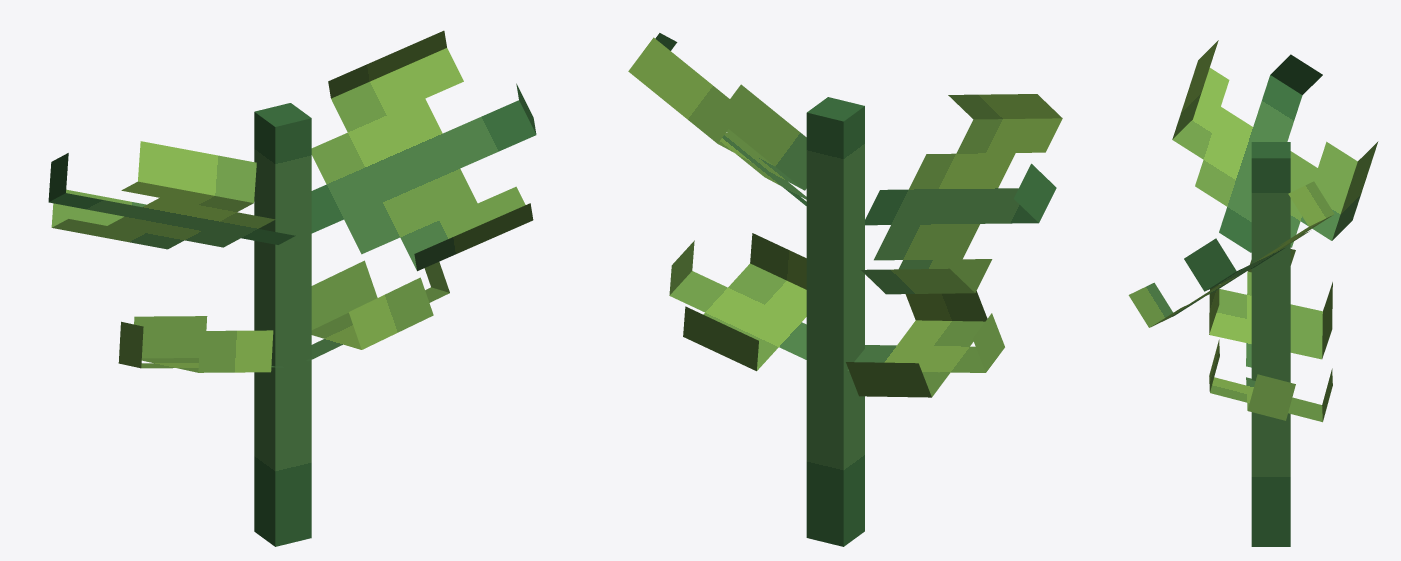
Rendered from cotton-stage2.gltf.
3 renders of one model, left to right at view 1: azimuth 30°, elevation 25°; view 2: azimuth 150°, elevation 25°; view 3: azimuth 270°, elevation 25°, orthographic. The views are drawn at different scales.
Visible parts, largest first — view 1: cube (×5); view 2: cube (×5); view 3: cube (×5).
Part boxes in pixels (x1,y1,x2,y2): cube (×5): (48,30,536,546); cube (×5): (628,33,1062,546); cube (×5): (1128,40,1378,546).
Bounding box in the file's own units: 0.7454 × 0.7658 × 0.4277.
1 material, 1 textured.
